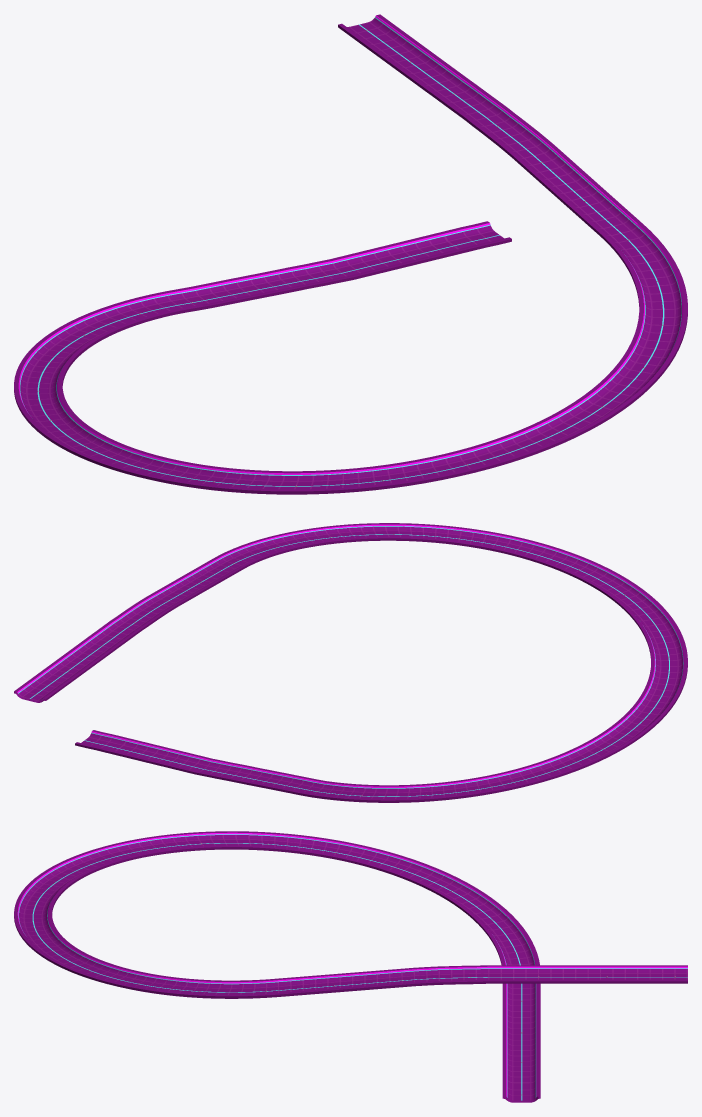
File: blue_90_R_T2.fbx
3 renders of one model, top to bottom at view 1: azimuth 30°, elevation 25°; view 2: azimuth 150°, elevation 25°; view 3: azimuth 270°, elevation 25°, orthographic. The views are drawn at different scales.
Visible parts, largest first — view 1: blue_90_R_T2; view 2: blue_90_R_T2; view 3: blue_90_R_T2.
Part boxes in pixels (x1,y1,x2,y2): blue_90_R_T2: (14, 14, 687, 494); blue_90_R_T2: (14, 523, 687, 802); blue_90_R_T2: (14, 831, 687, 1102).
Size of the model in its own units: 15975 by 3808 by 19984.
2 materials, 1 textured.
